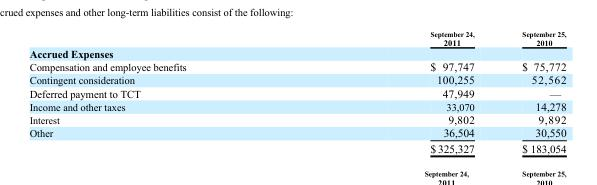table: (28, 29, 565, 154)
table column: (28, 29, 307, 154), (307, 29, 497, 154), (497, 29, 565, 154)
table column header: (28, 29, 565, 47)
table projected row header: (28, 47, 565, 59)
table row: (28, 29, 565, 47), (28, 125, 565, 140), (28, 72, 565, 86), (28, 140, 565, 154), (28, 59, 565, 72), (28, 86, 565, 99), (28, 99, 565, 112), (28, 112, 565, 125), (28, 47, 565, 59)
